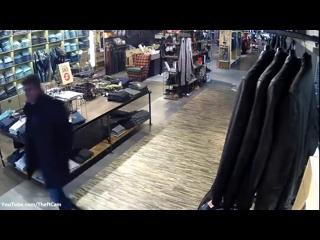Normal: (19, 74, 92, 206)
